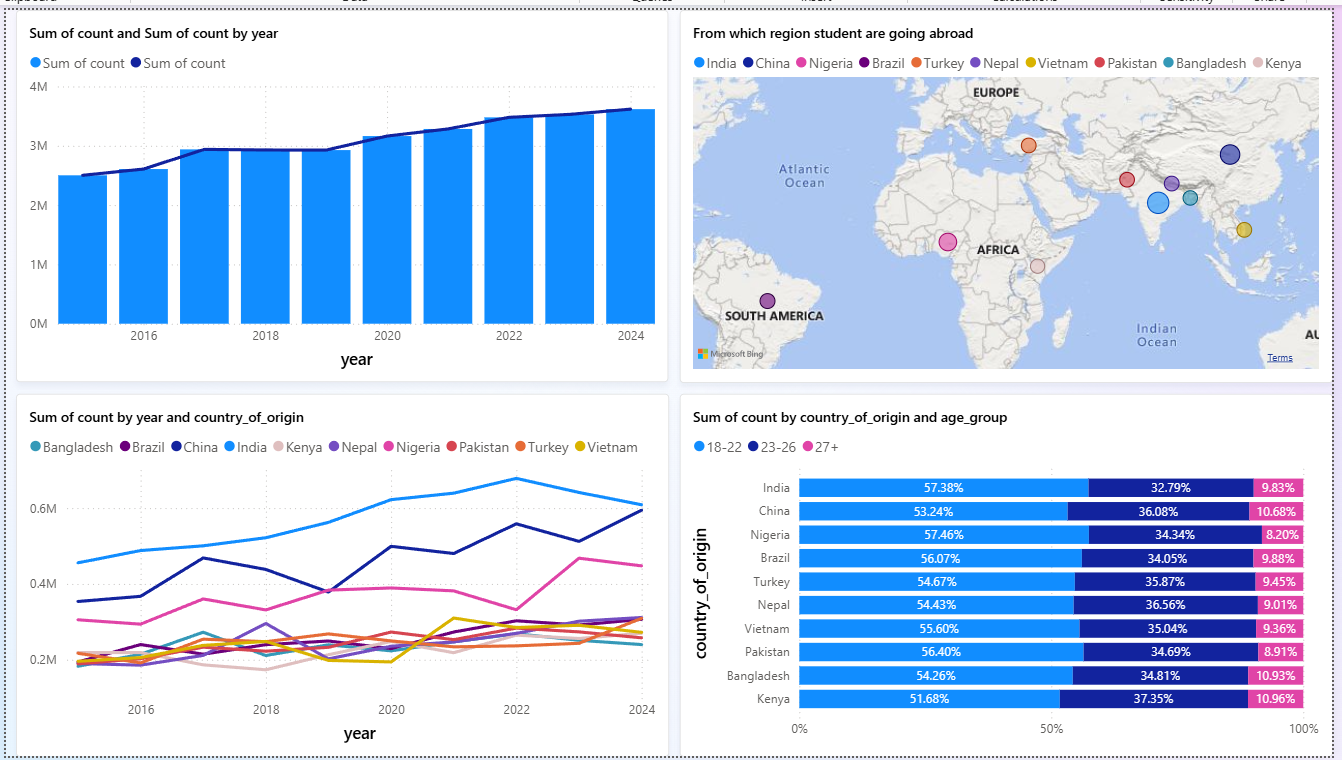

This screenshot's page, from the dashboard's own definition file:
{"tool":"powerbi","page":{"name":"Page 2","canvas":[1280,720],"ordinal":1},"visuals":[{"type":"lineStackedColumnComboChart","fields":{"Category":["International_Students_2015_2024_v2.year"],"Y":["Sum(International_Students_2015_2024_v2.count)"],"Y2":["Sum(International_Students_2015_2024_v2.count)"]},"box":[9.6,0,629.8,359.5],"z":0},{"type":"lineChart","fields":{"Category":["International_Students_2015_2024_v2.year"],"Series":["International_Students_2015_2024_v2.country_of_origin"],"Y":["Sum(International_Students_2015_2024_v2.count)"]},"box":[10,370,630,350],"z":1000},{"type":"map","title":"From which region student are going abroad","fields":{"Category":["International_Students_2015_2024_v2.country_of_origin"],"Size":["Sum(International_Students_2015_2024_v2.count)"],"Series":["International_Students_2015_2024_v2.country_of_origin"]},"box":[650,0,630,360],"z":2000},{"type":"hundredPercentStackedBarChart","fields":{"Category":["International_Students_2015_2024_v2.country_of_origin"],"Y":["Sum(International_Students_2015_2024_v2.count)"],"Series":["International_Students_2015_2024_v2.age_group"]},"box":[650,370,630,350],"z":3000}]}

Visuals, with their boxes in screenshot pixels (x1, y1, x2, y2), scaled from the page's 1280x720 canvas onto the 1342x760 screenshot:
lineStackedColumnComboChart - International_Students_2015_2024_v2.year x Sum(International_Students_2015_2024_v2.count): bbox=[10, 0, 670, 379]
lineChart - International_Students_2015_2024_v2.year x International_Students_2015_2024_v2.country_of_origin: bbox=[10, 391, 671, 759]
"From which region student are going abroad" map: bbox=[681, 0, 1341, 380]
hundredPercentStackedBarChart - International_Students_2015_2024_v2.country_of_origin x Sum(International_Students_2015_2024_v2.count): bbox=[681, 391, 1341, 759]
